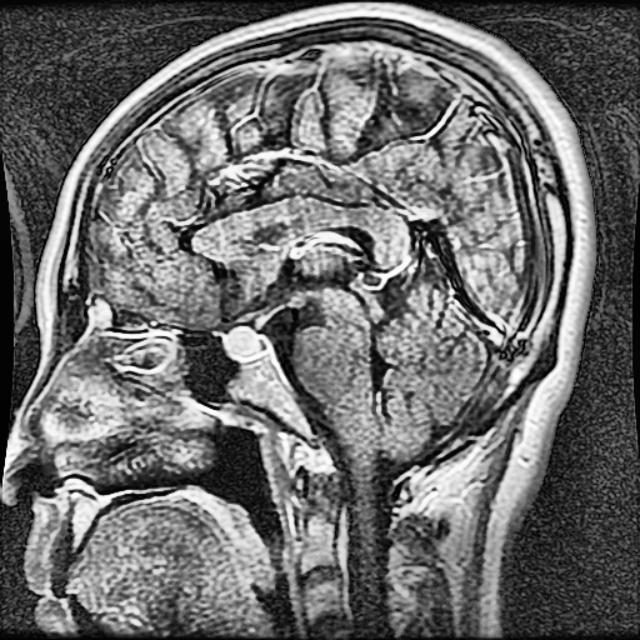Pituitary: (224, 327, 262, 358)
